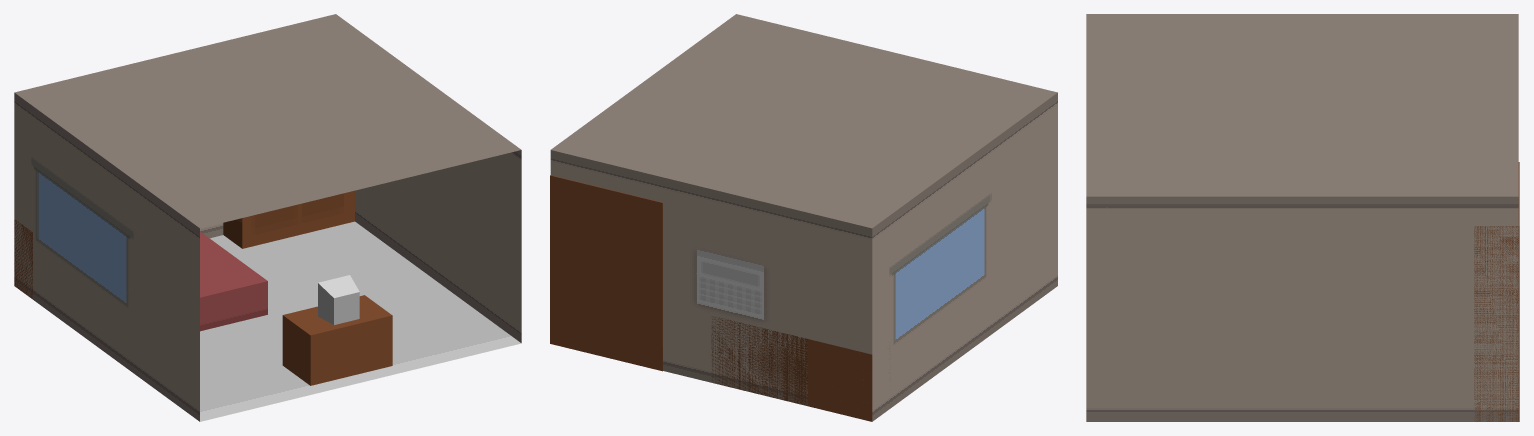
Rendered from qcu_dorm.glb.
The picture shows the model from 3 angles, left to right: view 1: azimuth 30°, elevation 25°; view 2: azimuth 150°, elevation 25°; view 3: azimuth 270°, elevation 25°; orthographic projection. The views are drawn at different scales.
Parts seen in each view (by area): view 1: Cube; view 2: Cube; view 3: Cube.
Part boxes in pixels (x1,y1,x2,y2): Cube: (14,14,521,421); Cube: (550,14,1057,421); Cube: (1086,14,1519,421).
Size of the model in its own units: 4 by 2.3 by 4.01.
1 material, 1 textured.
